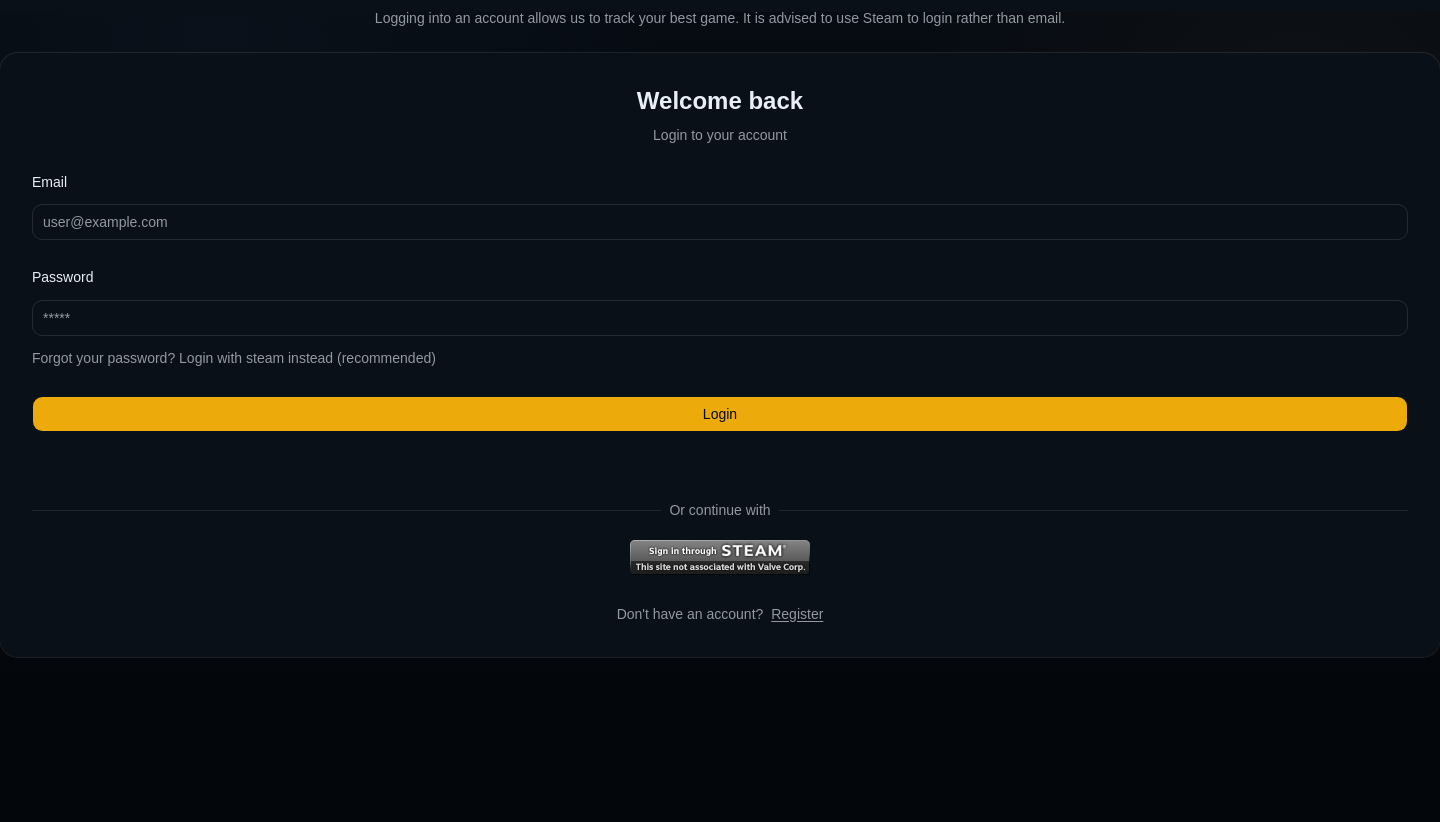
Test: LoginForm › shows an error and does not navigate when the credentials are rejected
The width and height of the screenshot is (1440, 822).
Type "player@example.com" into the field labelled "Email" at (720, 222), box [32,204,1408,240]
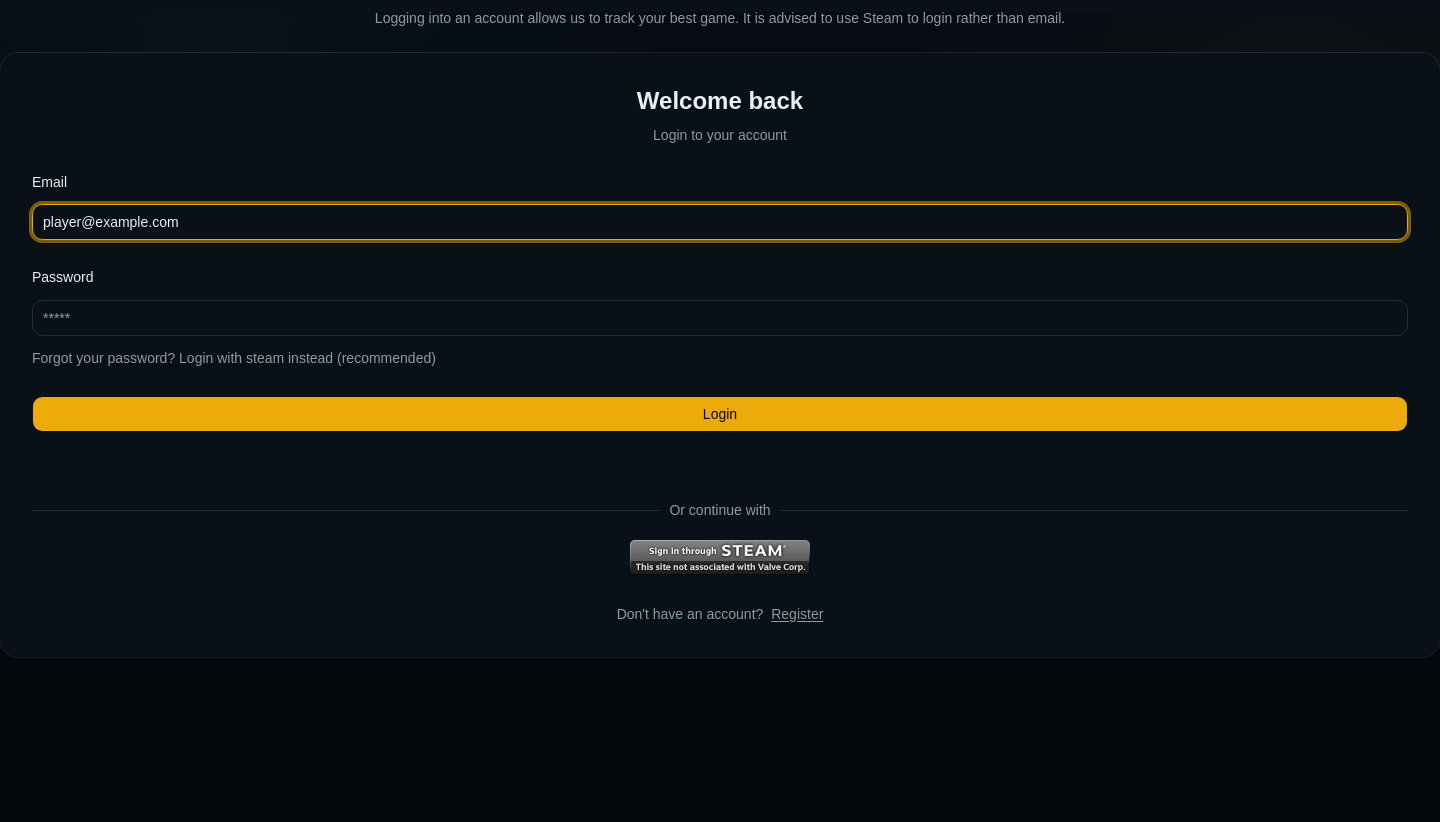
Type "playerexamplepassword" into the password field labelled "Password" at (720, 318), box [32,300,1408,336]
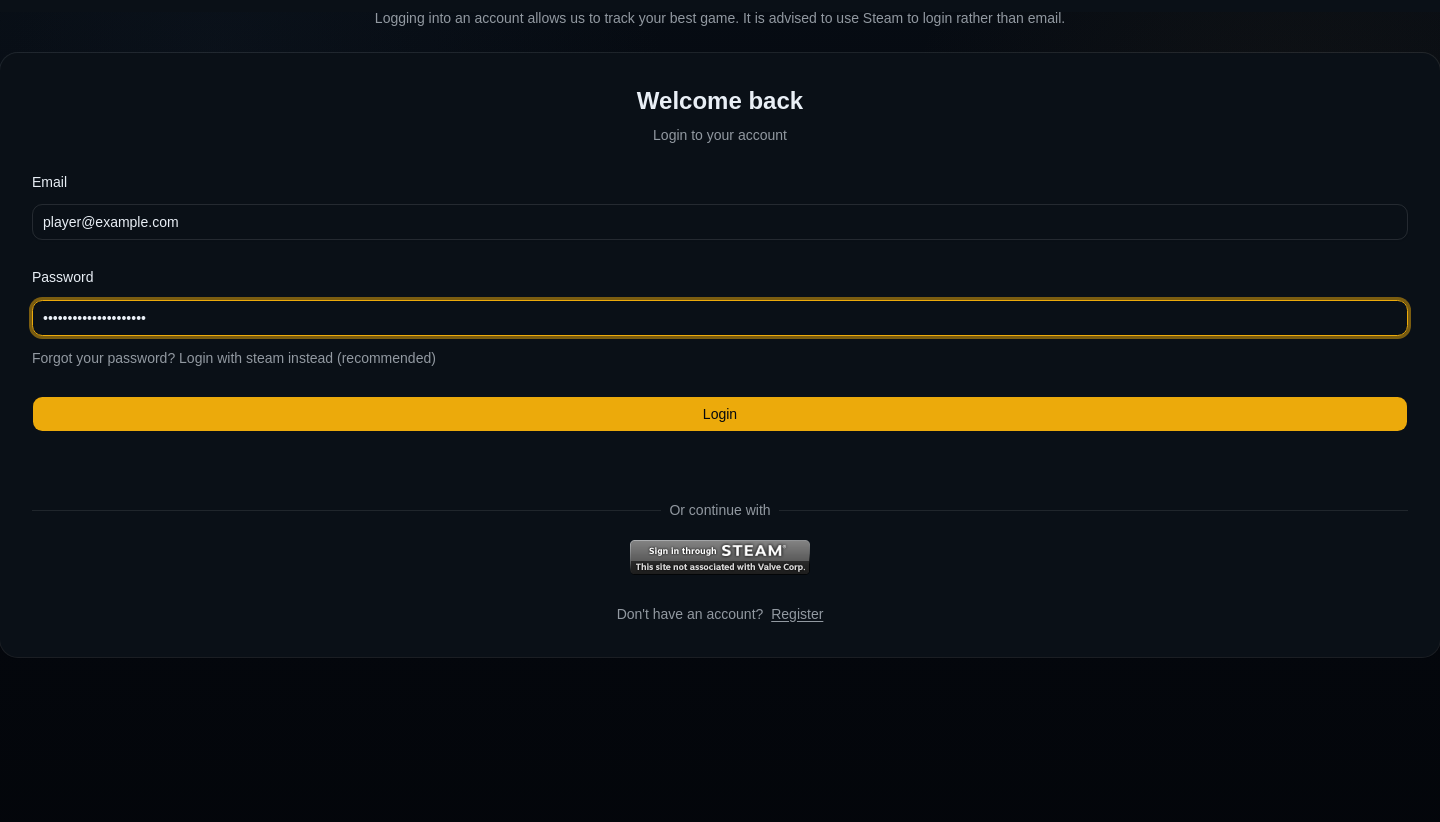
Click the button "Login" at (720, 414), box [32,396,1408,432]
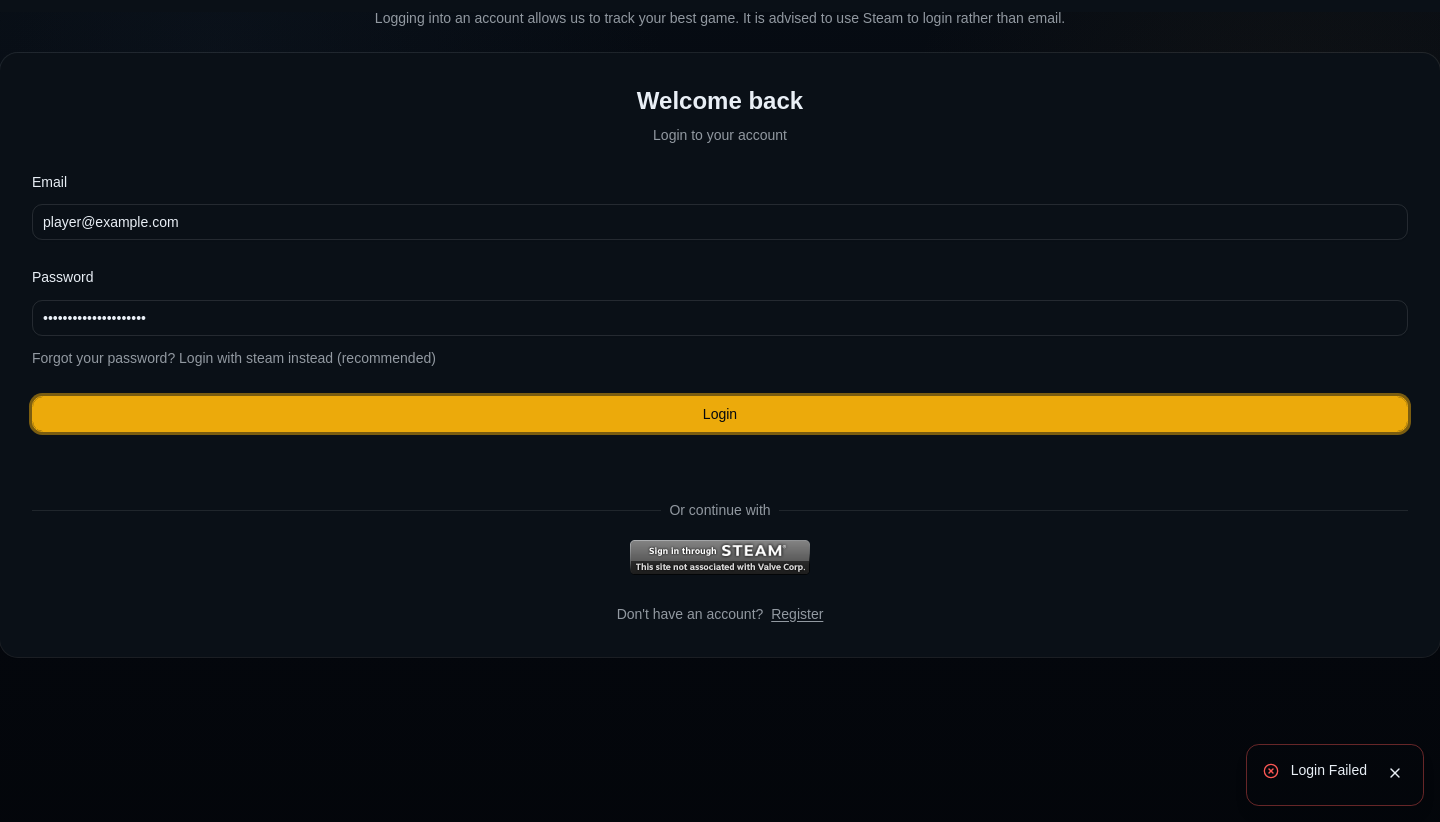
expect the text "Login Failed" is shown: met, box [1291,761,1367,780]
